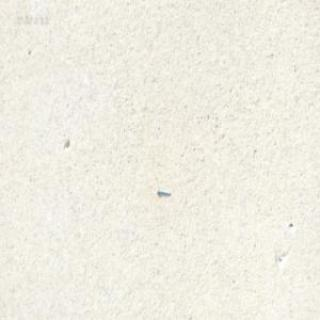Nailtrack_idkeyframe: (156, 185, 170, 195)
